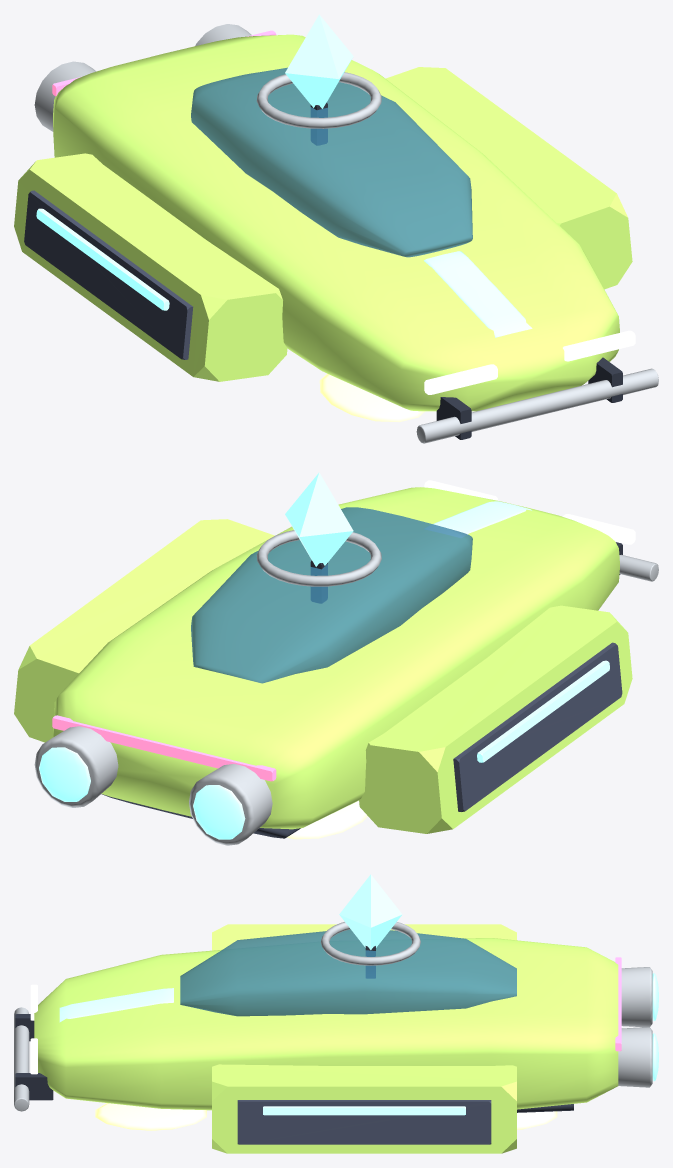
Rendered from Prism-Titan-v3.0.0.glb.
The picture shows the model from 3 angles, top to bottom: view 1: azimuth 30°, elevation 25°; view 2: azimuth 150°, elevation 25°; view 3: azimuth 270°, elevation 25°; orthographic projection. The views are drawn at different scales.
Visible parts, largest first — view 1: hull, canopy, armourPodR, armourPodL, podPlateR, ramBar, centreStripe, prismCore, coreCradle, hoverPadFrontR, podLightR, thrusterR (+5 smaller); view 2: hull, canopy, armourPodR, armourPodL, podPlateR, prismCore, thrusterL, thrusterR, coreCradle, tailBar, thrusterCoreR, thrusterCoreL (+5 smaller); view 3: hull, canopy, armourPodL, podPlateL, armourPodR, prismCore, hoverPadFrontL, podLightL, thrusterL, thrusterR, centreStripe, coreCradle (+4 smaller).
Part boxes in pixels (<box>): hull: <box>53,34,619,411</box>; canopy: <box>191,67,472,257</box>; armourPodR: <box>14,153,287,381</box>; armourPodL: <box>386,67,632,289</box>; podPlateR: <box>24,190,193,359</box>; ramBar: <box>416,368,658,443</box>; centreStripe: <box>424,251,532,337</box>; prismCore: <box>285,14,353,108</box>; coreCradle: <box>256,72,381,128</box>; hoverPadFrontR: <box>319,373,424,422</box>; podLightR: <box>36,208,169,310</box>; thrusterR: <box>34,61,95,131</box>; hull: <box>53,487,619,829</box>; canopy: <box>191,507,472,683</box>; armourPodR: <box>359,605,632,833</box>; armourPodL: <box>14,519,274,742</box>; podPlateR: <box>453,642,622,811</box>; prismCore: <box>285,472,353,566</box>; thrusterL: <box>34,726,118,807</box>; thrusterR: <box>189,764,272,845</box>; coreCradle: <box>256,530,381,586</box>; tailBar: <box>52,715,276,781</box>; thrusterCoreR: <box>193,785,245,839</box>; thrusterCoreL: <box>39,747,90,801</box>; hull: <box>34,938,618,1110</box>; canopy: <box>180,929,516,1016</box>; armourPodL: <box>212,1064,516,1153</box>; podPlateL: <box>237,1100,491,1144</box>; armourPodR: <box>212,924,516,950</box>; prismCore: <box>339,874,402,949</box>; hoverPadFrontL: <box>95,1103,206,1130</box>; podLightL: <box>263,1106,465,1115</box>; thrusterL: <box>618,1027,652,1087</box>; thrusterR: <box>621,967,652,1027</box>; centreStripe: <box>59,988,173,1022</box>; coreCradle: <box>320,922,420,965</box>.
Bounding box in the file's own units: 3.25 × 1.85 × 5.08.
